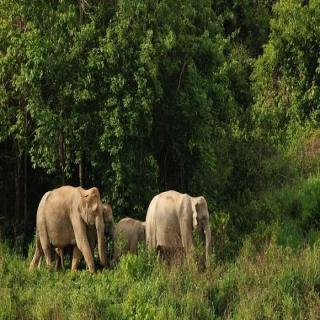Elephant: (28, 185, 108, 278), (145, 189, 213, 282)
